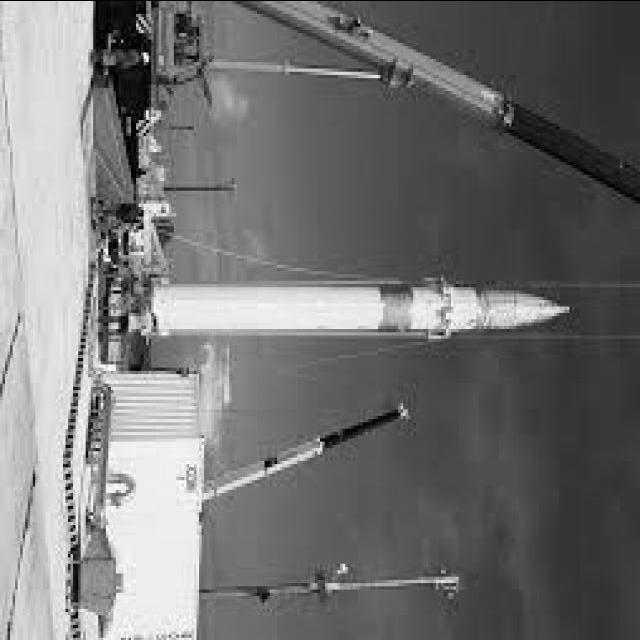missile: (138, 276, 586, 340)
